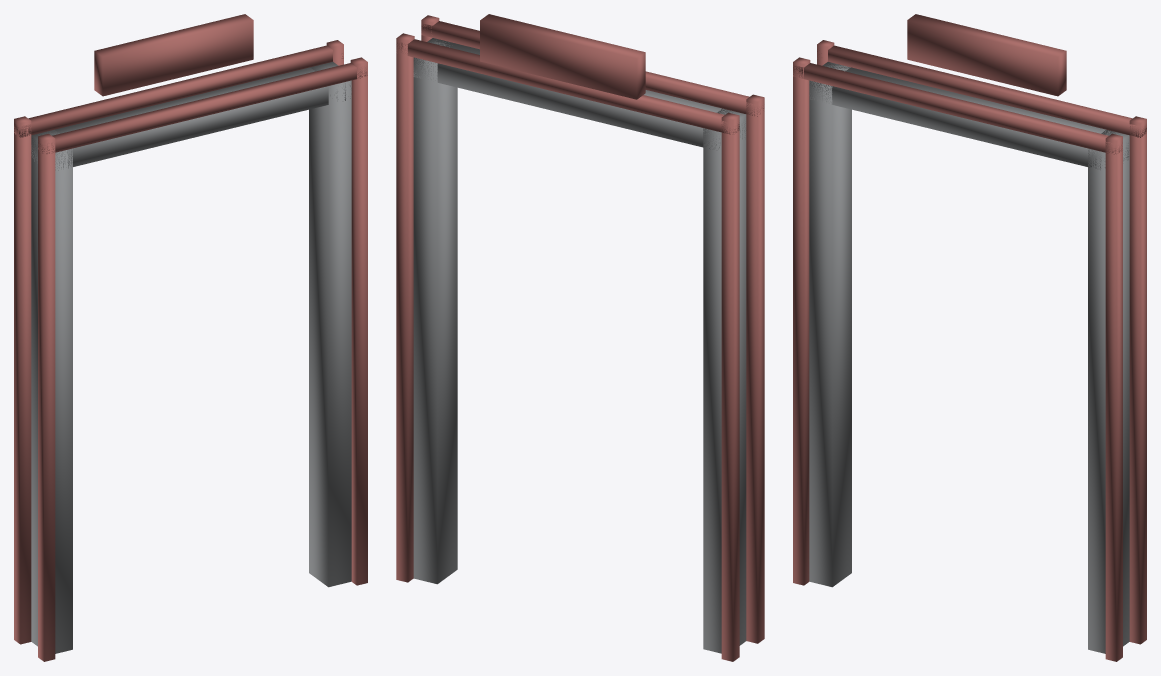
Rendered from doorway_emergency_exit_w122_h220_d16.glb.
3 renders of one model, left to right at view 1: azimuth 30°, elevation 25°; view 2: azimuth 150°, elevation 25°; view 3: azimuth 330°, elevation 25°, orthographic. The views are drawn at different scales.
Parts seen in each view (by area): view 1: world; view 2: world; view 3: world.
Part boxes in pixels (x1,y1,x2,y2): world: [14, 14, 367, 661]; world: [396, 14, 764, 661]; world: [793, 14, 1146, 661].
Bounding box in the file's own units: 1.55 × 2.57 × 0.2998.
